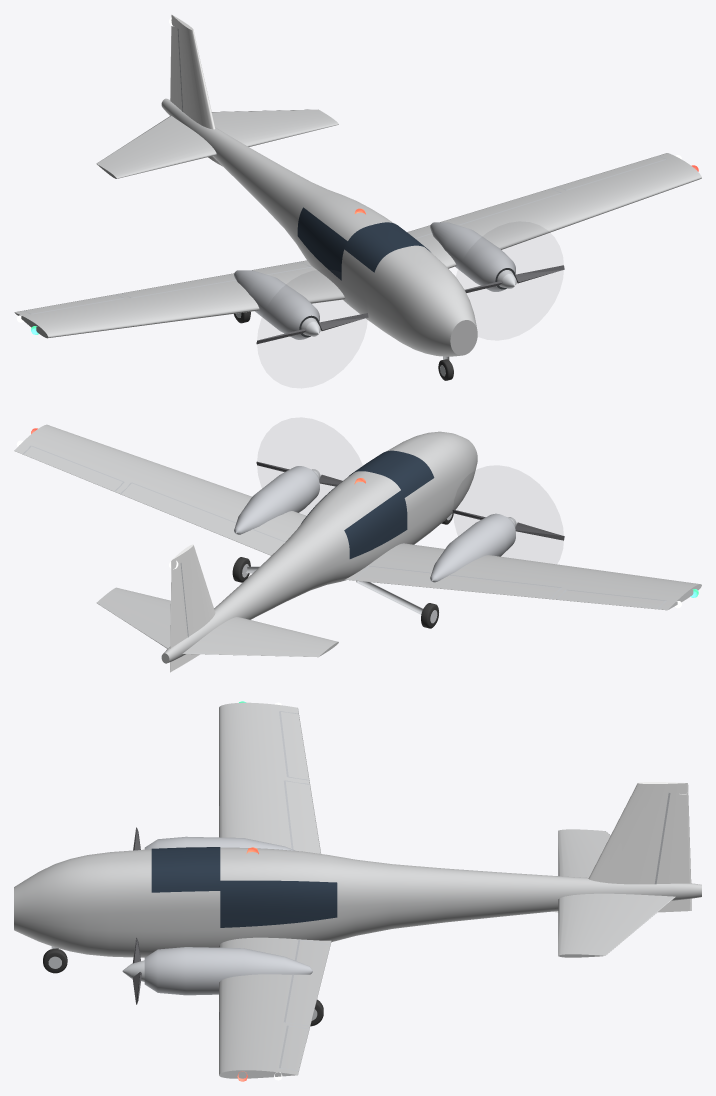
3 renders of one model, top to bottom at view 1: azimuth 30°, elevation 25°; view 2: azimuth 150°, elevation 25°; view 3: azimuth 270°, elevation 25°, orthographic. The views are drawn at different scales.
Visible parts, largest first — view 1: airframe, prop; view 2: airframe, gear, prop; view 3: airframe, gear.
Part boxes in pixels (bbox=[...]): airframe: bbox=[14, 15, 701, 356]; prop: bbox=[256, 313, 368, 344]; airframe: bbox=[14, 424, 701, 672]; gear: bbox=[232, 513, 453, 628]; prop: bbox=[452, 509, 564, 540]; airframe: bbox=[14, 701, 701, 1081]; gear: bbox=[43, 946, 323, 1026].
Bounding box in the file's own units: 11.72 × 2.92 × 9.1.
